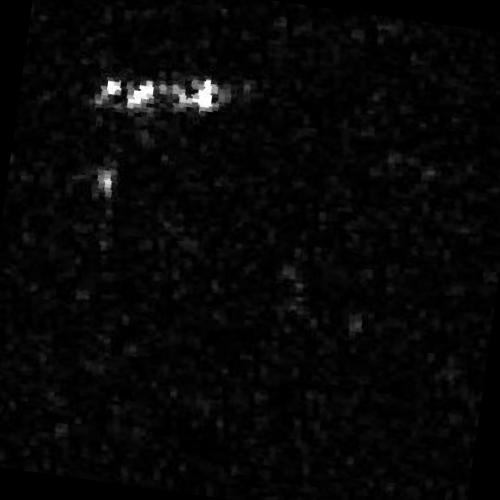ship: (87, 73, 236, 118)
